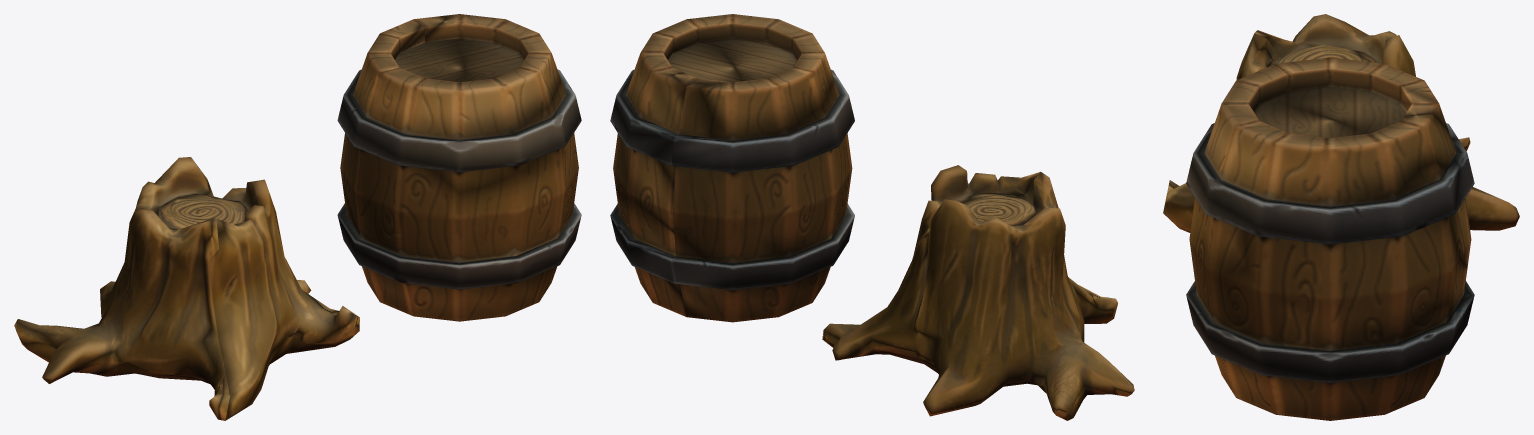
Rendered from stylized-basic-props-e40c85.glb.
3 renders of one model, left to right at view 1: azimuth 30°, elevation 25°; view 2: azimuth 150°, elevation 25°; view 3: azimuth 270°, elevation 25°, orthographic. The views are drawn at different scales.
Parts seen in each view (by area): view 1: PropMesh; view 2: PropMesh; view 3: PropMesh.
Boxes of the visible parts, bbox=[...] form: PropMesh: bbox=[14, 14, 581, 420]; PropMesh: bbox=[610, 14, 1134, 420]; PropMesh: bbox=[1163, 14, 1519, 420].
Bounding box in the file's own units: 1.86 × 0.85 × 0.9422.
Materials: 2 (2 with a texture image).
